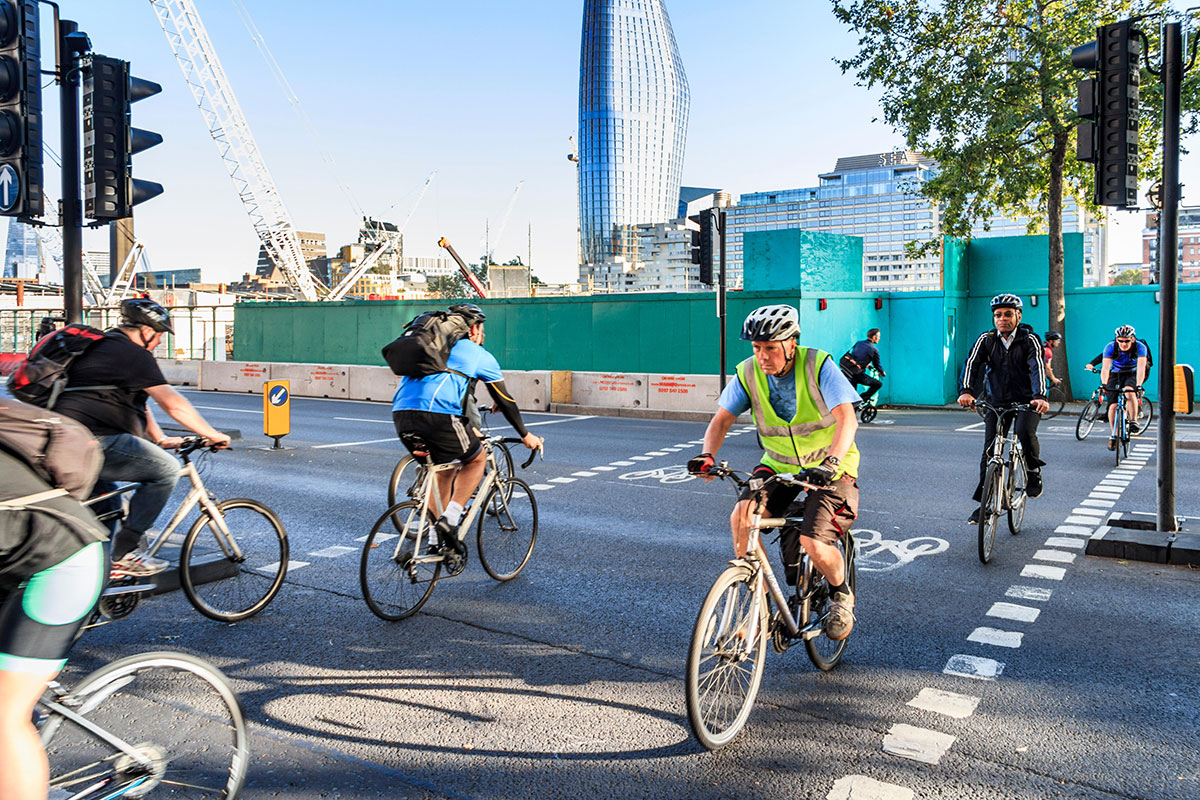commuter: (1, 299, 288, 624), (683, 306, 863, 752), (356, 298, 542, 623), (955, 294, 1050, 572), (1097, 326, 1147, 468)
